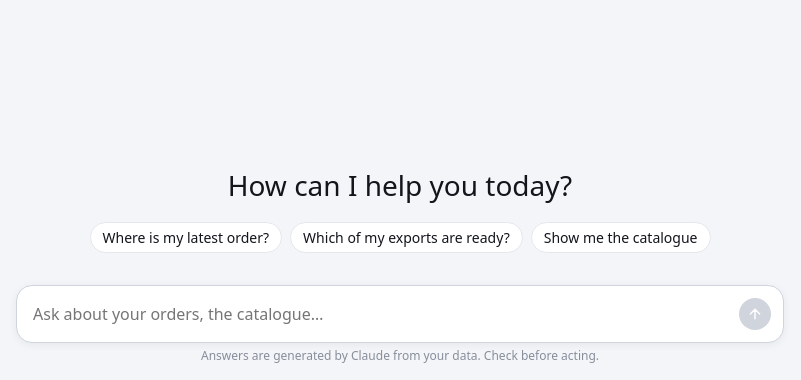
AssistantPage › sends on Enter
In the text box named "Your question": (382, 314) [33,298,731,330], type "Why?"
Then press Enter
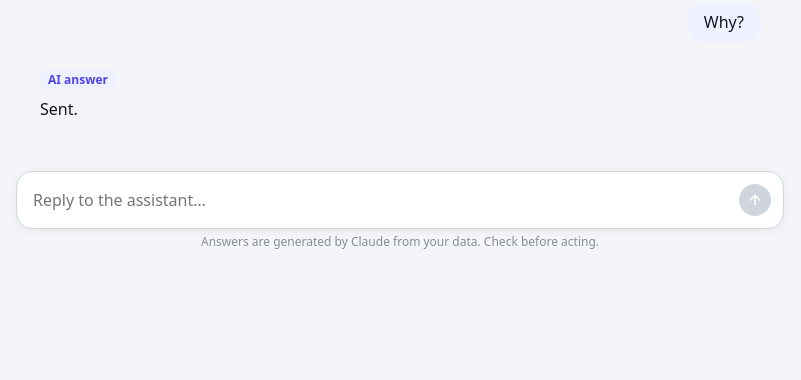
Expected: the text "Sent." is shown, [40,98,78,120]
